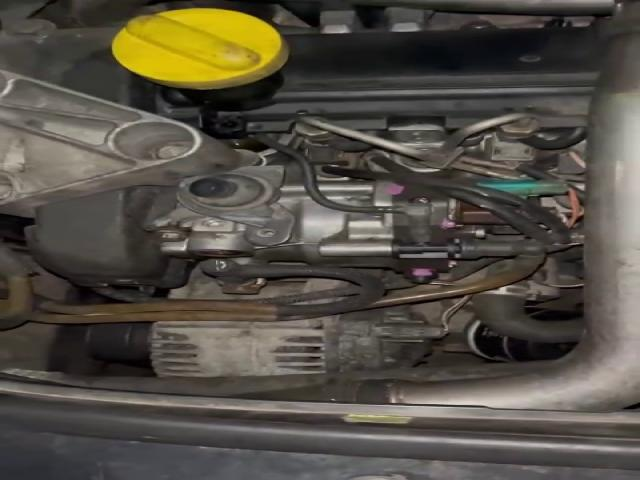alternator: (149, 304, 449, 377)
high_pressure_pump: (176, 175, 498, 285)
